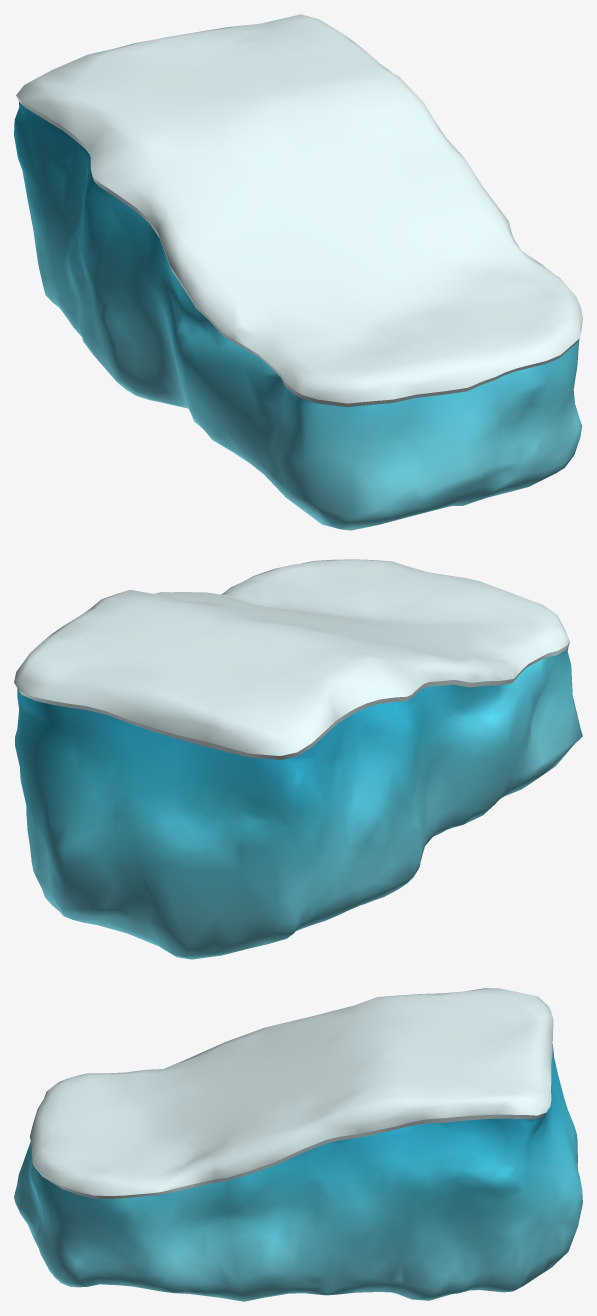
Rendered from iceberg_002.fbx.
3 renders of one model, top to bottom at view 1: azimuth 30°, elevation 25°; view 2: azimuth 150°, elevation 25°; view 3: azimuth 270°, elevation 25°, orthographic. The views are drawn at different scales.
Parts seen in each view (by area): view 1: iceberg_002; view 2: iceberg_002; view 3: iceberg_002.
Part boxes in pixels (x1=…): iceberg_002: x1=14, y1=14, x2=582, y2=530; iceberg_002: x1=14, y1=559, x2=582, y2=959; iceberg_002: x1=14, y1=988, x2=582, y2=1301.
Bounding box in the file's own units: 1921 × 3413 × 1413.
